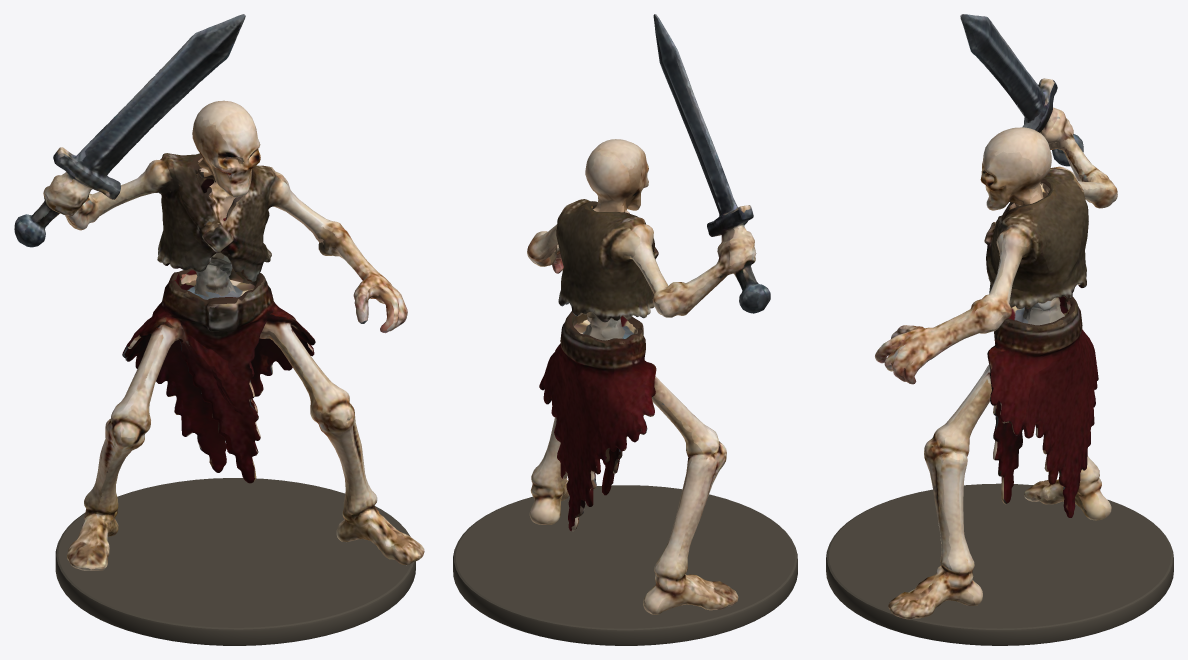
Rendered from skeleton-vest.glb.
3 views of the same model, side by side, from view 1: azimuth 30°, elevation 25°; view 2: azimuth 150°, elevation 25°; view 3: azimuth 270°, elevation 25° (orthographic). The views are drawn at different scales.
Parts seen in each view (by area): view 1: skeleton-vest_body, skeleton-vest_round_base; view 2: skeleton-vest_body, skeleton-vest_round_base; view 3: skeleton-vest_body, skeleton-vest_round_base.
Part boxes in pixels (x1=…): skeleton-vest_body: x1=14, y1=14, x2=424, y2=570; skeleton-vest_round_base: x1=55, y1=478, x2=415, y2=645; skeleton-vest_body: x1=527, y1=14, x2=770, y2=614; skeleton-vest_round_base: x1=453, y1=485, x2=797, y2=645; skeleton-vest_body: x1=875, y1=14, x2=1117, y2=619; skeleton-vest_round_base: x1=826, y1=483, x2=1173, y2=645.
Size of the model in its own units: 1.09 by 1.75 by 1.
2 materials, 1 textured.
